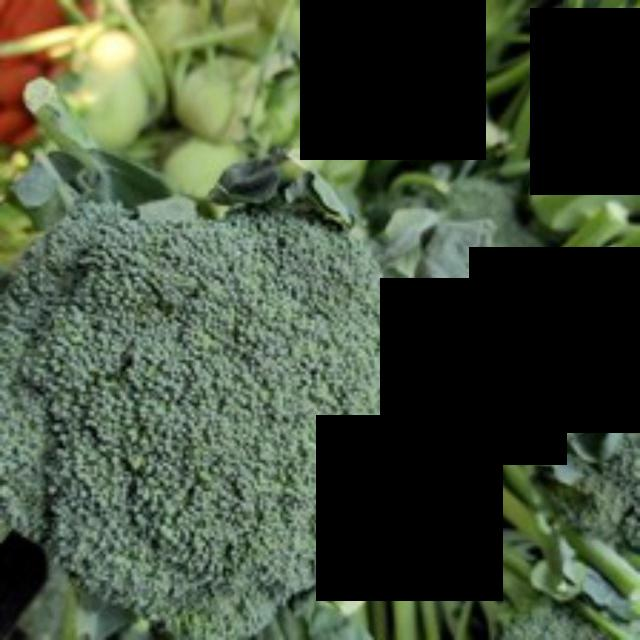broccoli: (0, 194, 414, 637)
